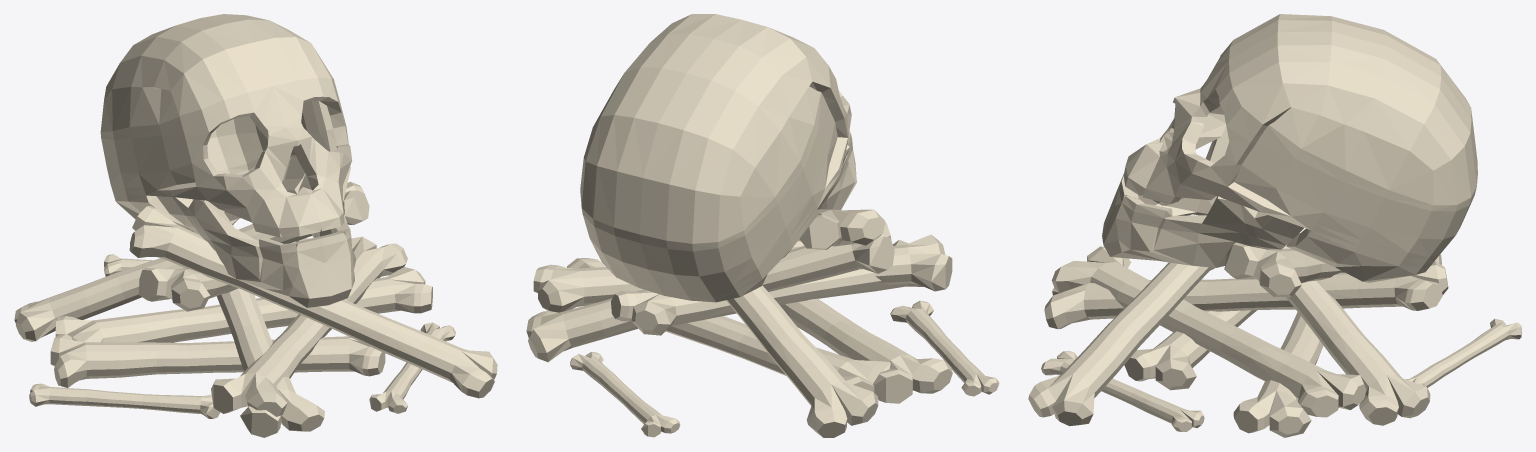
The model's file is Bone pile.fbx.
3 renders of one model, left to right at view 1: azimuth 30°, elevation 25°; view 2: azimuth 150°, elevation 25°; view 3: azimuth 270°, elevation 25°, orthographic. The views are drawn at different scales.
Visible parts, largest first — view 1: Bone pile; view 2: Bone pile; view 3: Bone pile.
Part boxes in pixels (x1,y1,x2,y2): Bone pile: (14,14,497,437); Bone pile: (526,14,999,437); Bone pile: (1028,14,1521,437).
Size of the model in its own units: 1.35 by 0.9702 by 1.34.
